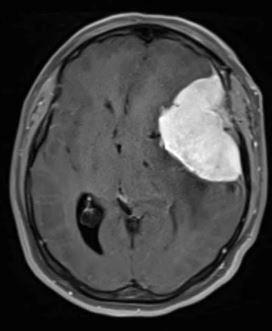Tumour-Meningioma: (148, 62, 244, 202)
